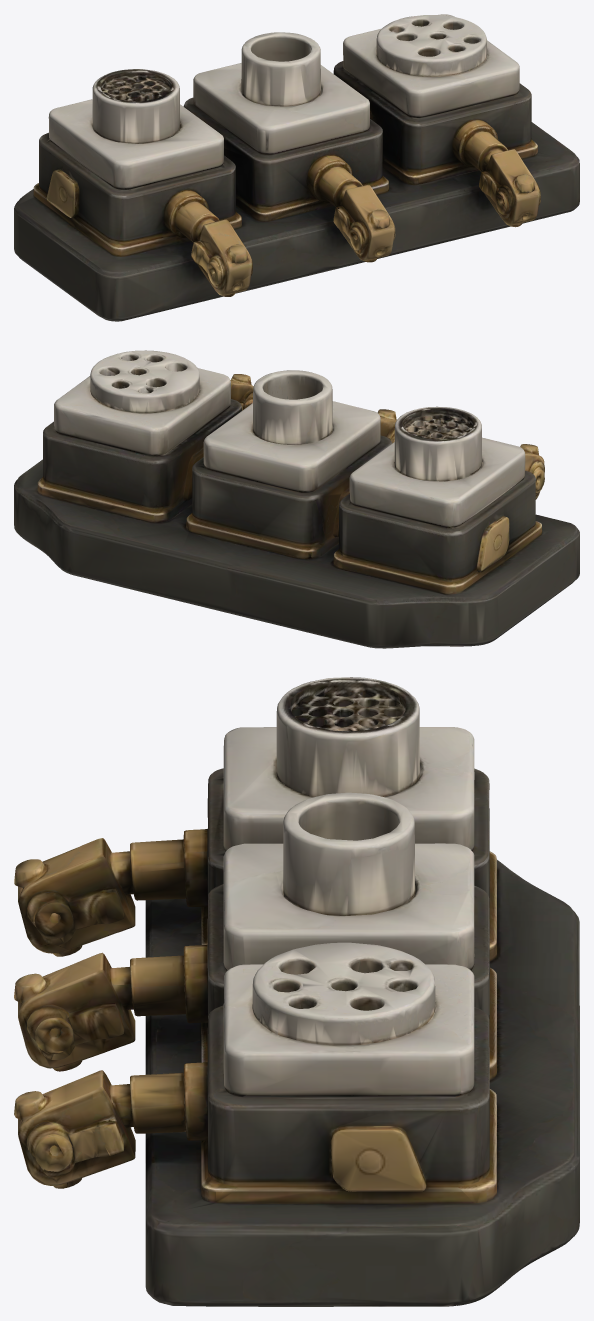
Rendered from hero-harness-tool-bank-v1.glb.
3 views of the same model, one above another, from view 1: azimuth 30°, elevation 25°; view 2: azimuth 150°, elevation 25°; view 3: azimuth 270°, elevation 25° (orthographic). The views are drawn at different scales.
Parts seen in each view (by area): view 1: node_0; view 2: node_0; view 3: node_0.
Boxes of the visible parts, x1,y1,x2,y2 form: node_0: (14, 14, 579, 321); node_0: (14, 350, 579, 648); node_0: (14, 677, 579, 1306).
Size of the model in its own units: 1.08 by 0.3804 by 0.6677.
Materials: 1 (1 with a texture image).
